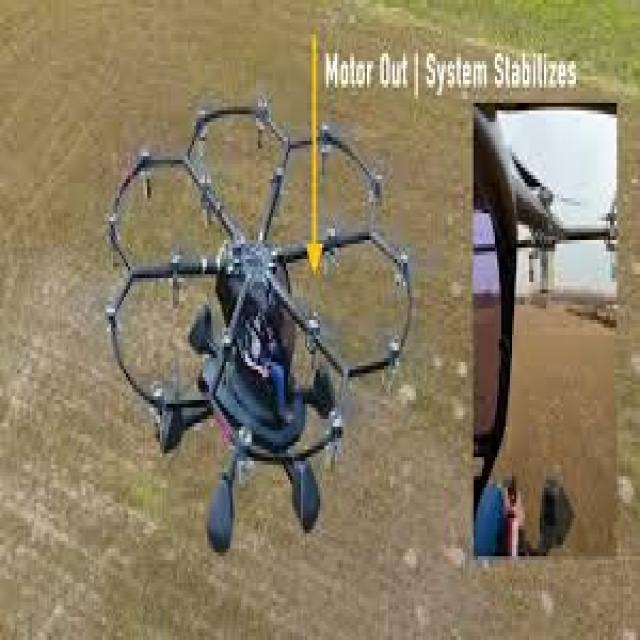drone: (90, 74, 418, 574)
